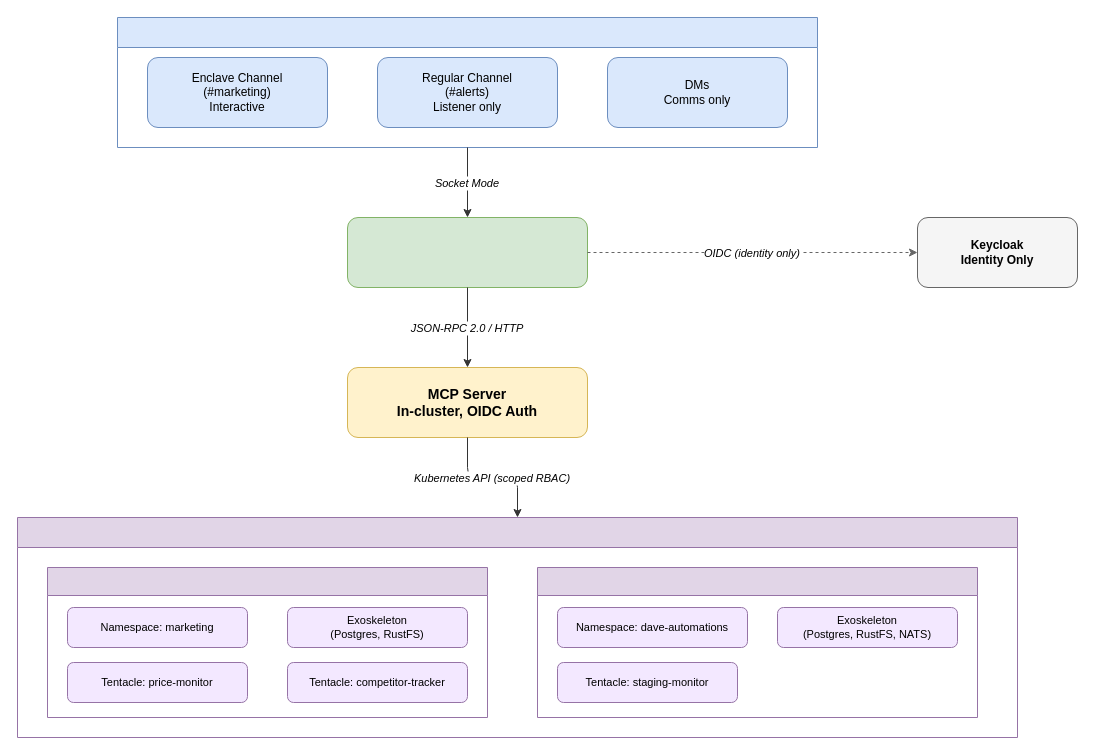
Image size: 1095x755. Some labels were removed from this diagram. The shapes that lost their labels are listed below. From the top down, each one's box as (x1, y1, x2, y2) in pixels, then its label:
(116, 16, 818, 148): Slack Workspace
(346, 216, 588, 288): The Kraken Slack Bot
(46, 566, 488, 718): Enclave: marketing
(16, 516, 1018, 738): Kubernetes Cluster
(536, 566, 978, 718): Enclave: dave-automations
